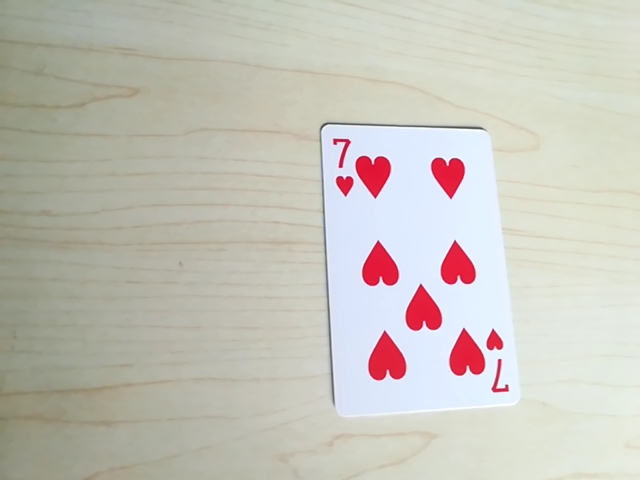hx 7: (325, 127, 358, 173), (477, 367, 510, 403)
